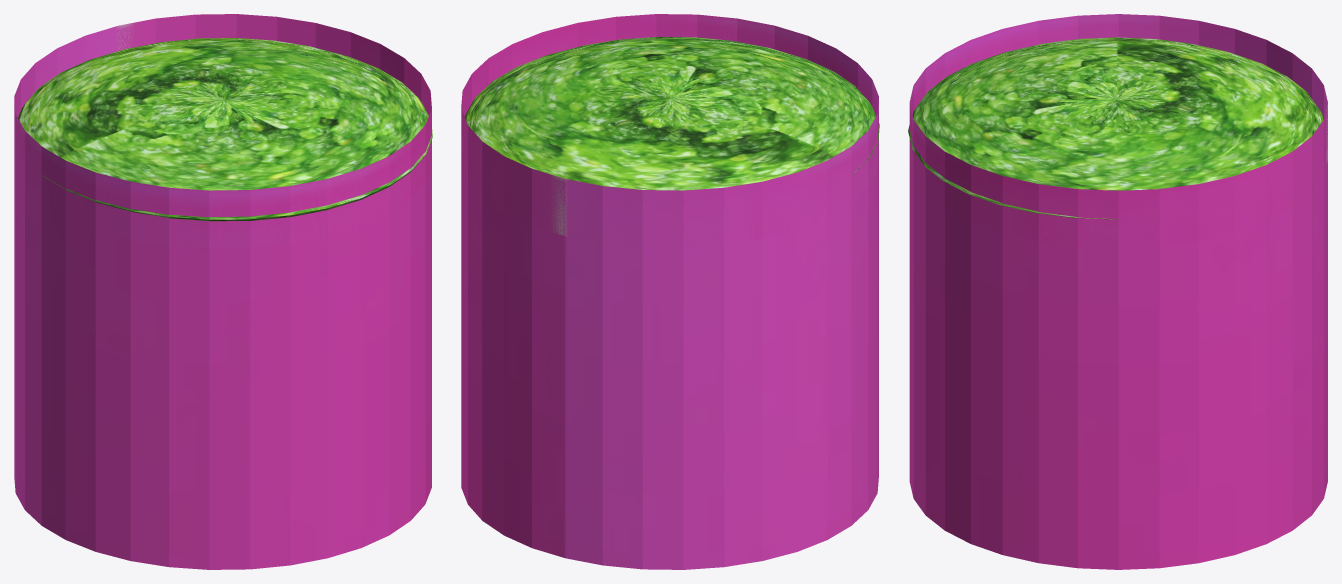
The model's file is bote-desalsa-verde.glb.
3 renders of one model, left to right at view 1: azimuth 30°, elevation 25°; view 2: azimuth 150°, elevation 25°; view 3: azimuth 270°, elevation 25°, orthographic.
Visible parts, largest first — view 1: Cylinder.001; view 2: Cylinder.001; view 3: Cylinder.001.
Boxes of the visible parts, <box> form: Cylinder.001: <box>14,14,432,569</box>; Cylinder.001: <box>461,14,879,569</box>; Cylinder.001: <box>908,14,1327,569</box>.
Size of the model in its own units: 2 by 2.01 by 2.01.
Materials: 2 (2 with a texture image).
